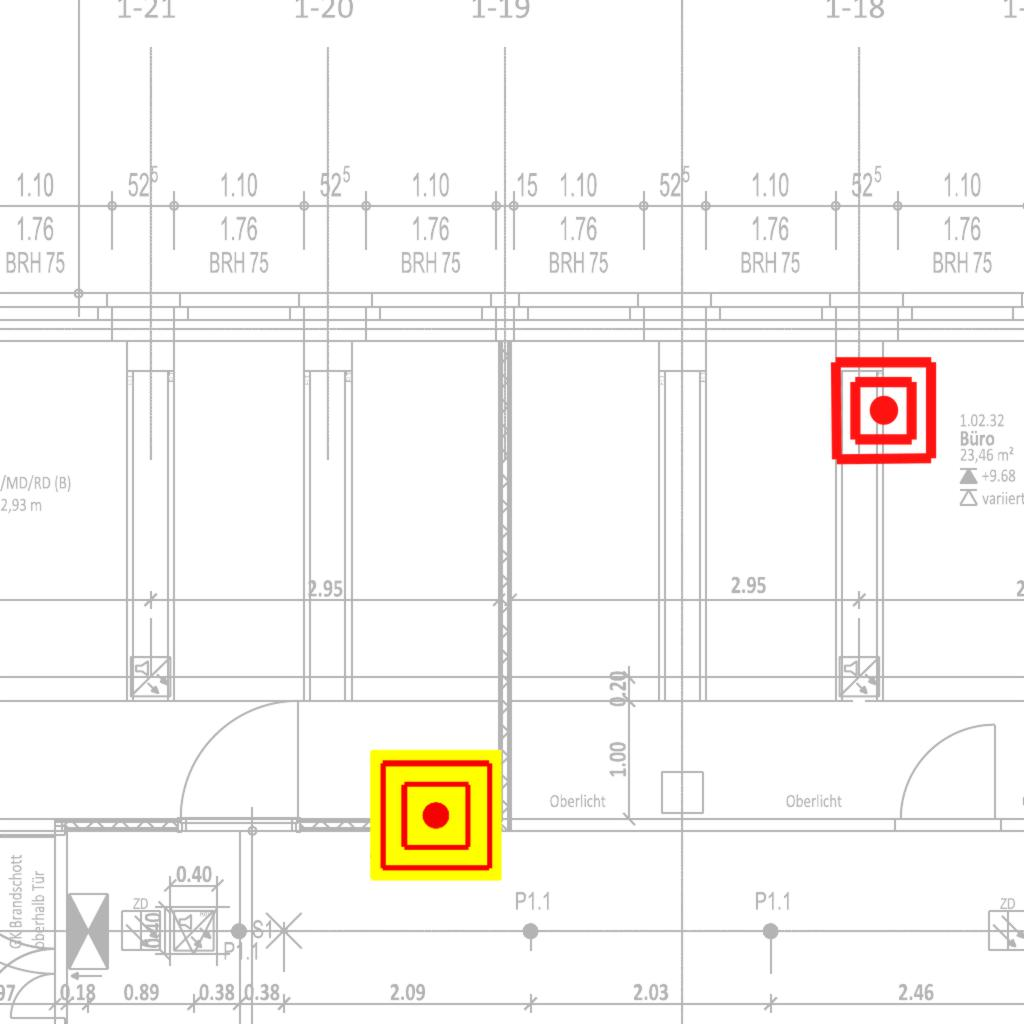NAM-Nichtautomatischer_Melder: (370, 749, 502, 881), (827, 354, 940, 467)
